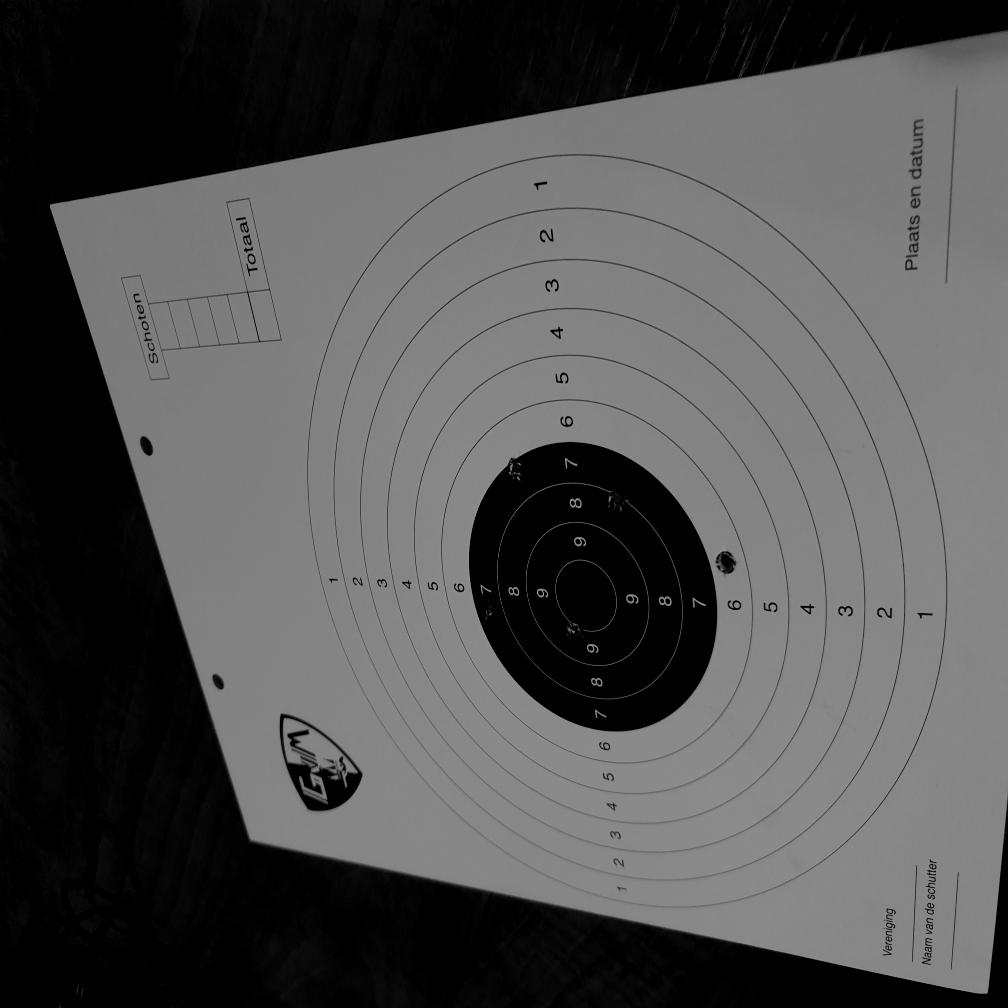10: (566, 620, 587, 647)
6: (714, 549, 738, 576)
7: (505, 455, 528, 483), (481, 599, 504, 625)
8: (605, 487, 631, 516)
Target: (302, 152, 952, 914)
black_contour: (468, 442, 717, 733)
